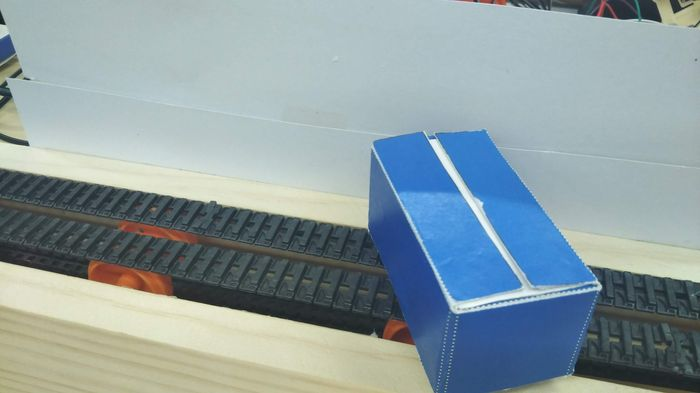box3: (362, 119, 600, 393)
